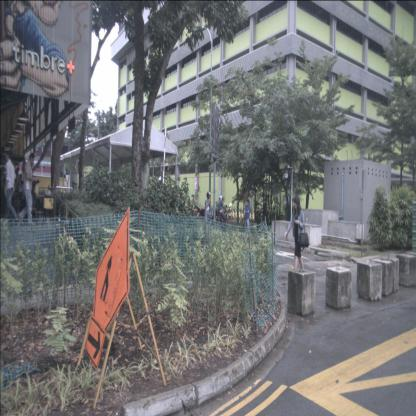human-pedestrian-adult: (284, 194, 310, 284), (18, 152, 40, 226), (3, 152, 19, 228), (243, 198, 251, 236), (204, 190, 211, 229), (0, 165, 6, 204), (14, 168, 21, 198), (45, 188, 51, 202)
vehicle-motorcycle: (212, 195, 233, 233)
